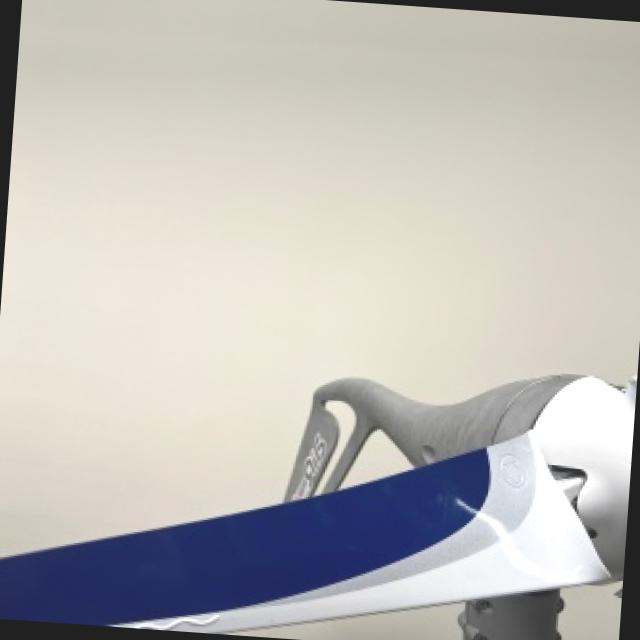healthy: (0, 377, 636, 631)
